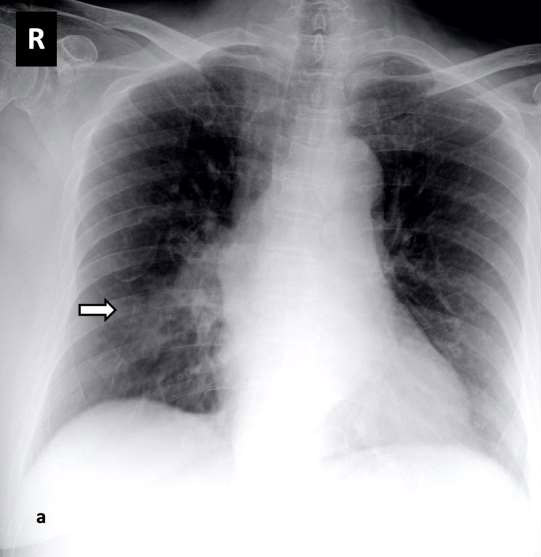Mildw: (33, 42, 274, 467), (355, 50, 522, 414)
